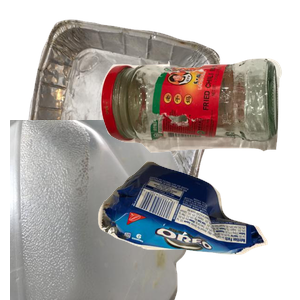glass: (98, 56, 300, 201)
metal: (23, 17, 236, 197)
plastic: (10, 120, 190, 300)
trash: (95, 158, 300, 300)
